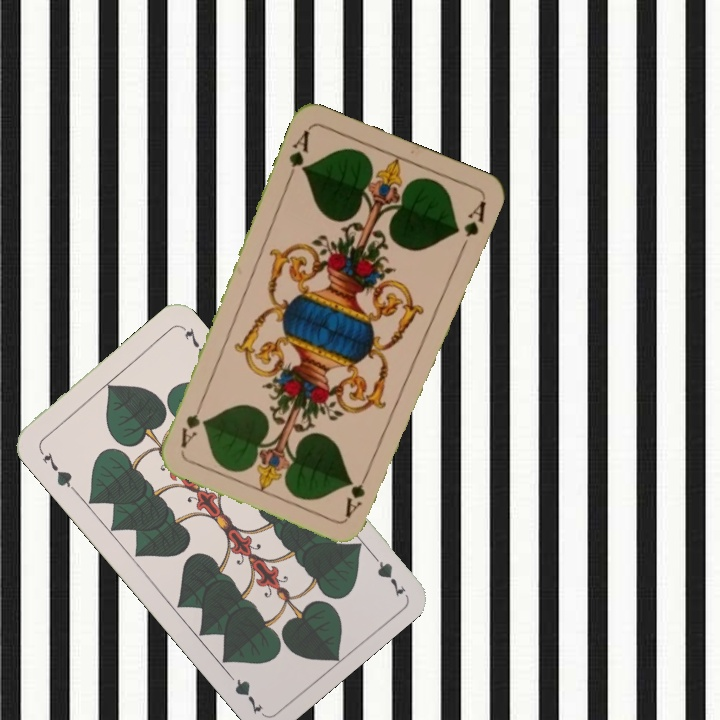G7: (364, 546, 408, 599), (35, 444, 78, 494)
GA: (341, 464, 373, 520), (283, 125, 313, 183)
